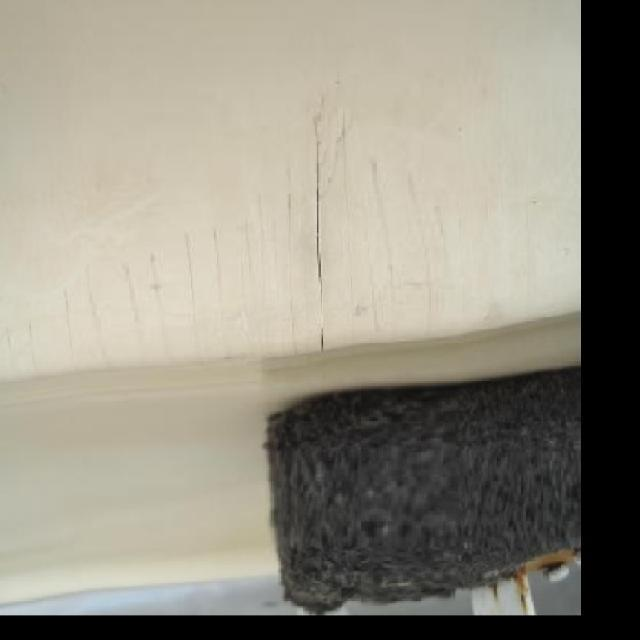crack: (313, 114, 326, 351)
